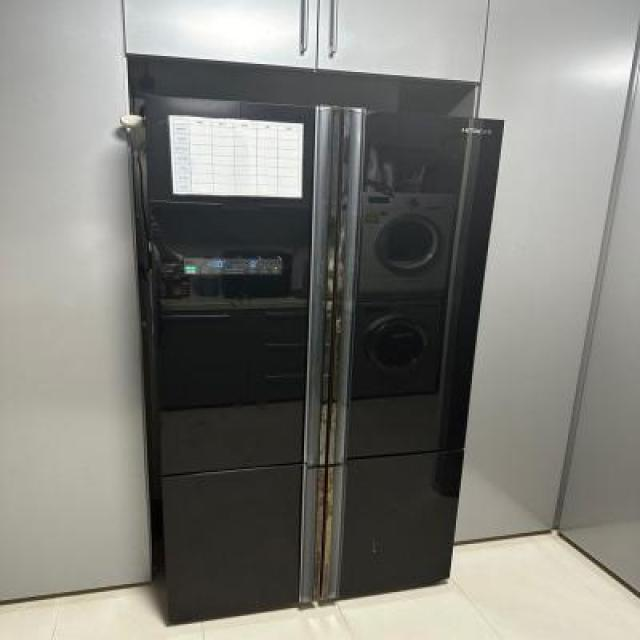refrigerator: (135, 94, 510, 629)
